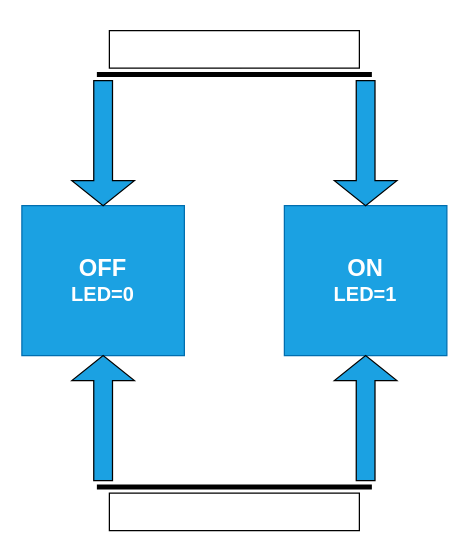
Some shapes in this 469 by 553 pixel diagram are drawn without their labels. The shapes that lost their labels are listed below. From the top down, each one's centre as x and y in pixels, then its label:
point (233, 48): SENSOR<THRESHOLD
point (233, 511): SENSOR>=THRESHOLD
